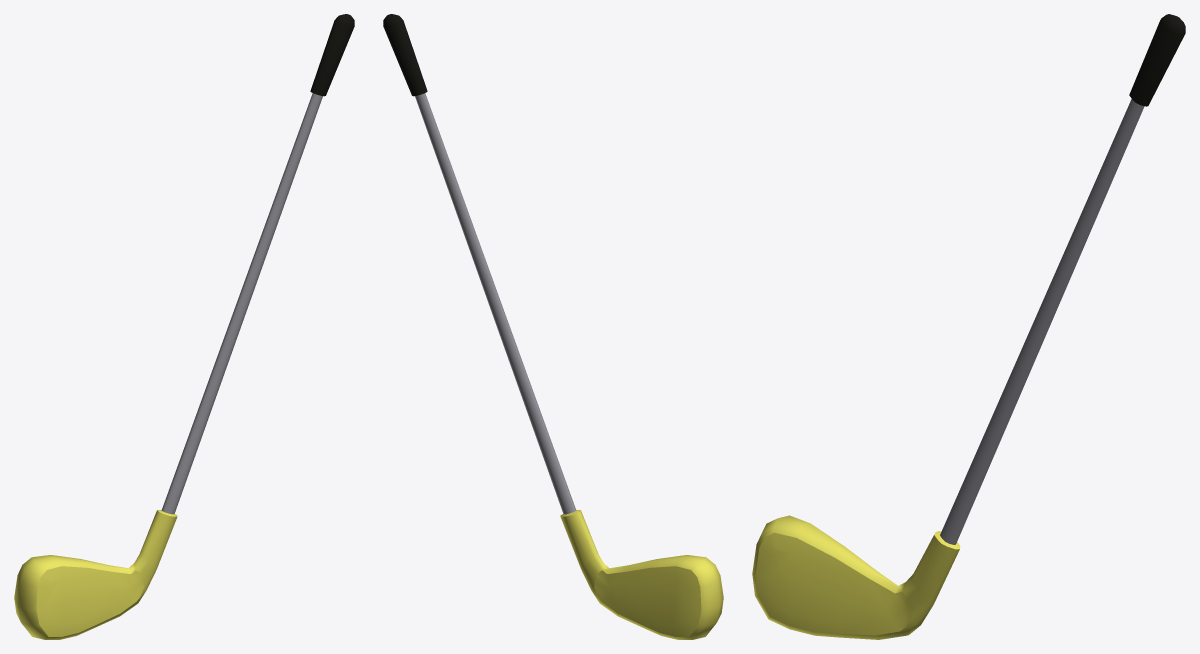
File: Color Golf Club.fbx
The picture shows the model from 3 angles, left to right: view 1: azimuth 30°, elevation 25°; view 2: azimuth 150°, elevation 25°; view 3: azimuth 330°, elevation 25°; orthographic projection. The views are drawn at different scales.
Parts seen in each view (by area): view 1: Plane002; view 2: Plane002; view 3: Plane002.
Boxes of the visible parts, x1=… form: Plane002: x1=14, y1=14, x2=354, y2=639; Plane002: x1=383, y1=14, x2=723, y2=639; Plane002: x1=752, y1=14, x2=1185, y2=639.
Bounding box in the file's own units: 488 × 766 × 54.25.
